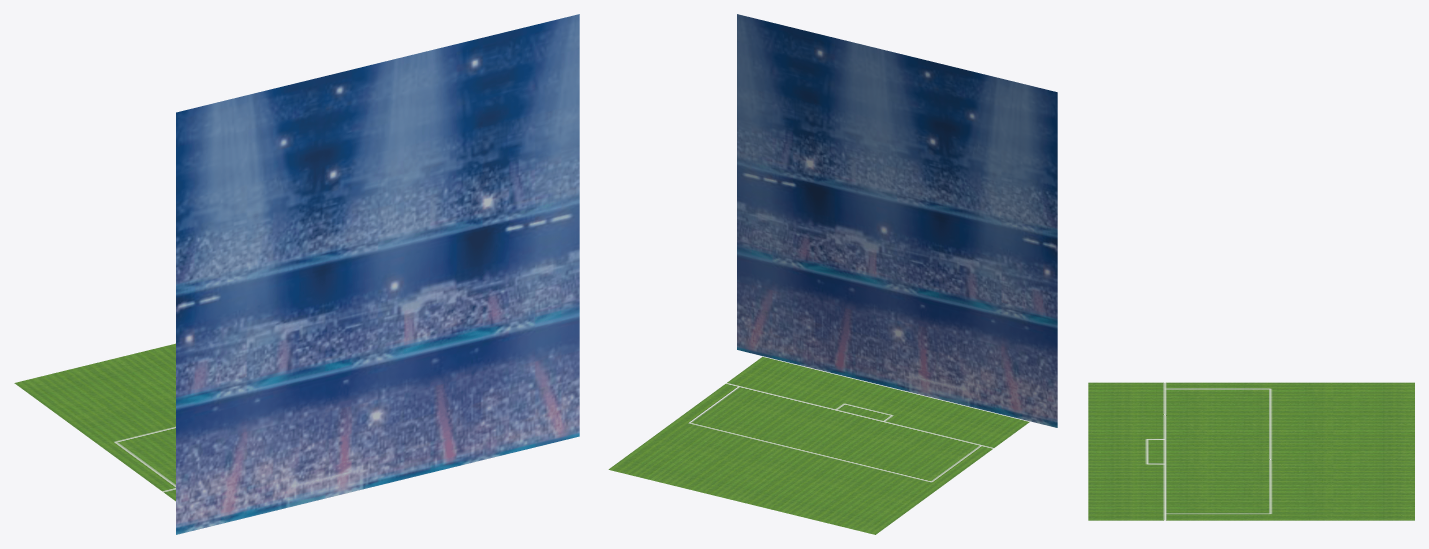
File: grass_stadium_7.glb
3 renders of one model, left to right at view 1: azimuth 30°, elevation 25°; view 2: azimuth 150°, elevation 25°; view 3: azimuth 270°, elevation 25°, orthographic. The views are drawn at different scales.
Visible parts, largest first — view 1: Plane.001, Plane; view 2: Plane.001, Plane; view 3: Plane.
Boxes of the visible parts, box(x1,y1,x2,y2) form: Plane.001: box(176, 14, 579, 534); Plane: box(14, 343, 175, 501); Plane.001: box(737, 14, 1057, 427); Plane: box(608, 356, 1029, 534); Plane: box(1088, 382, 1414, 520).
Size of the model in its own units: 6 by 6 by 5.03.
Materials: 2 (2 with a texture image).
